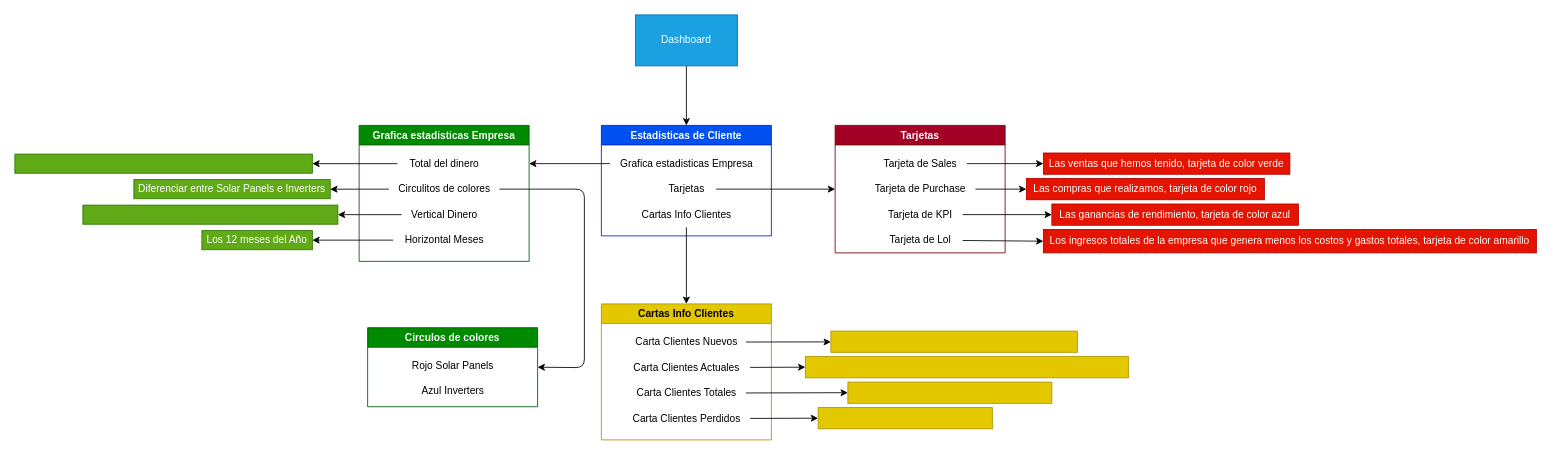
This 1551x455 diagram has some shape labels left out. The shapes that lost their labels are listed below. From the top down, each one's centre as x and y in pixels, then its label:
At (163,163): "El Total del dinero de la Empresa de los Inverters y Solar Panels".
At (210,214): "Escalado de dinero empezando por $1000 para arriba".
At (953,341): "Los Clientes que acaban de llegar a nuestra pagina".
At (966,367): "Los Clientes que ya utilizan nuestra pagina o tienen tiempo usandola".
At (949,392): "La suma de los Clientes Nuevos y Actuales".
At (904,418): "Los Clientes que borraron la Cuenta".
